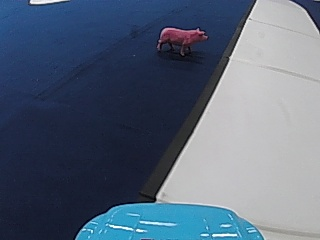pig: (155, 22, 208, 56)
